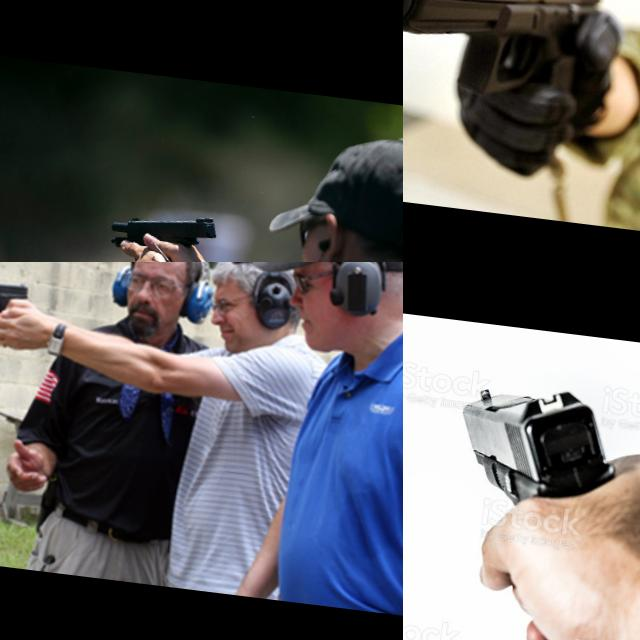handgun: (403, 0, 616, 148), (448, 376, 634, 526), (103, 203, 220, 260), (0, 270, 47, 319)
